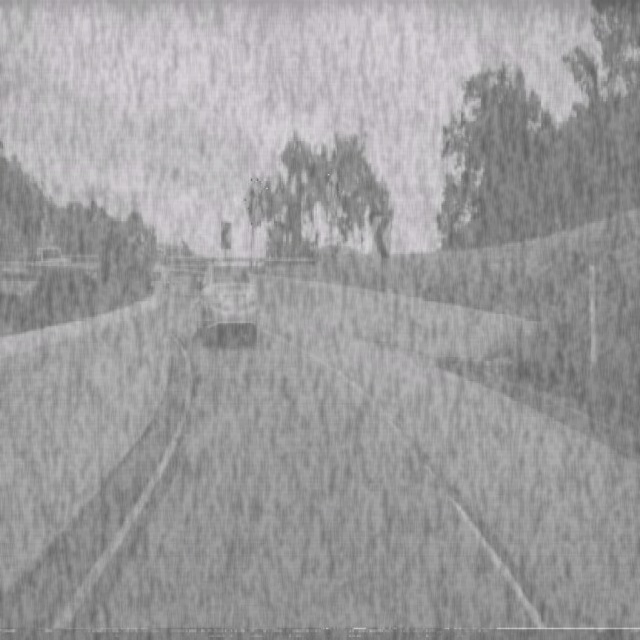addedLane: (242, 174, 269, 229), (324, 164, 344, 216)
